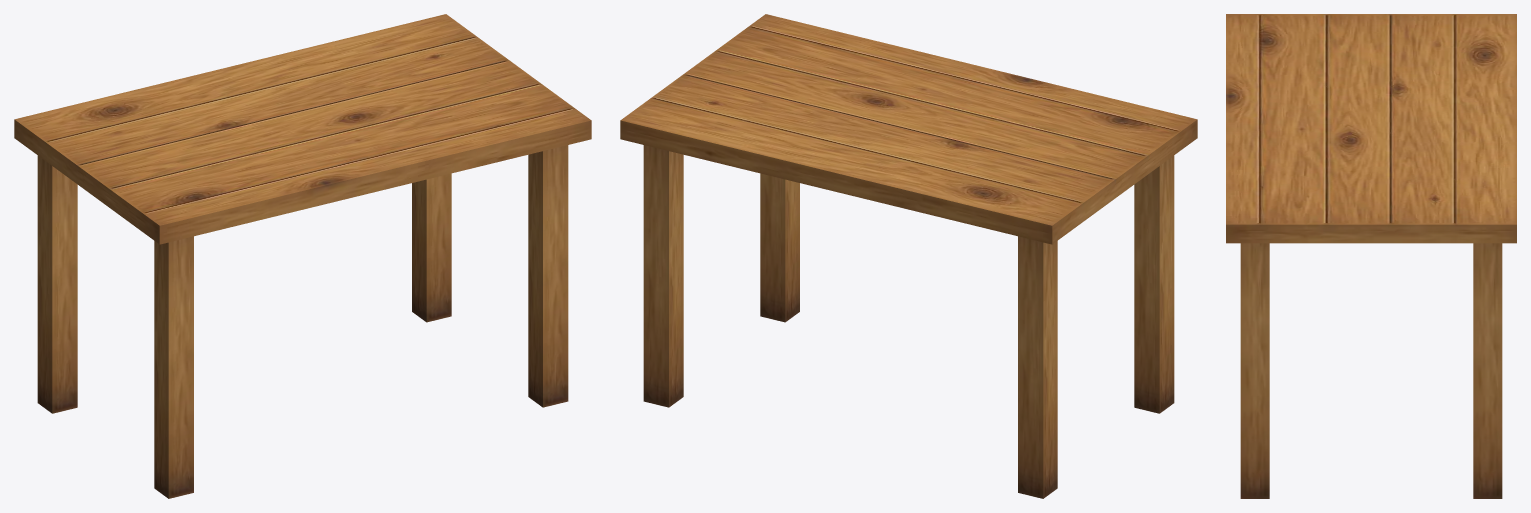
The model's file is table.glb.
The picture shows the model from 3 angles, left to right: view 1: azimuth 30°, elevation 25°; view 2: azimuth 150°, elevation 25°; view 3: azimuth 270°, elevation 25°; orthographic projection.
Visible parts, largest first — view 1: GEO-table; view 2: GEO-table; view 3: GEO-table.
Part boxes in pixels (<box>): GEO-table: <box>14,14,591,498</box>; GEO-table: <box>620,14,1197,498</box>; GEO-table: <box>1226,14,1516,498</box>.
Size of the model in its own units: 1.2 by 0.75 by 0.7.
Materials: 1 (1 with a texture image).
